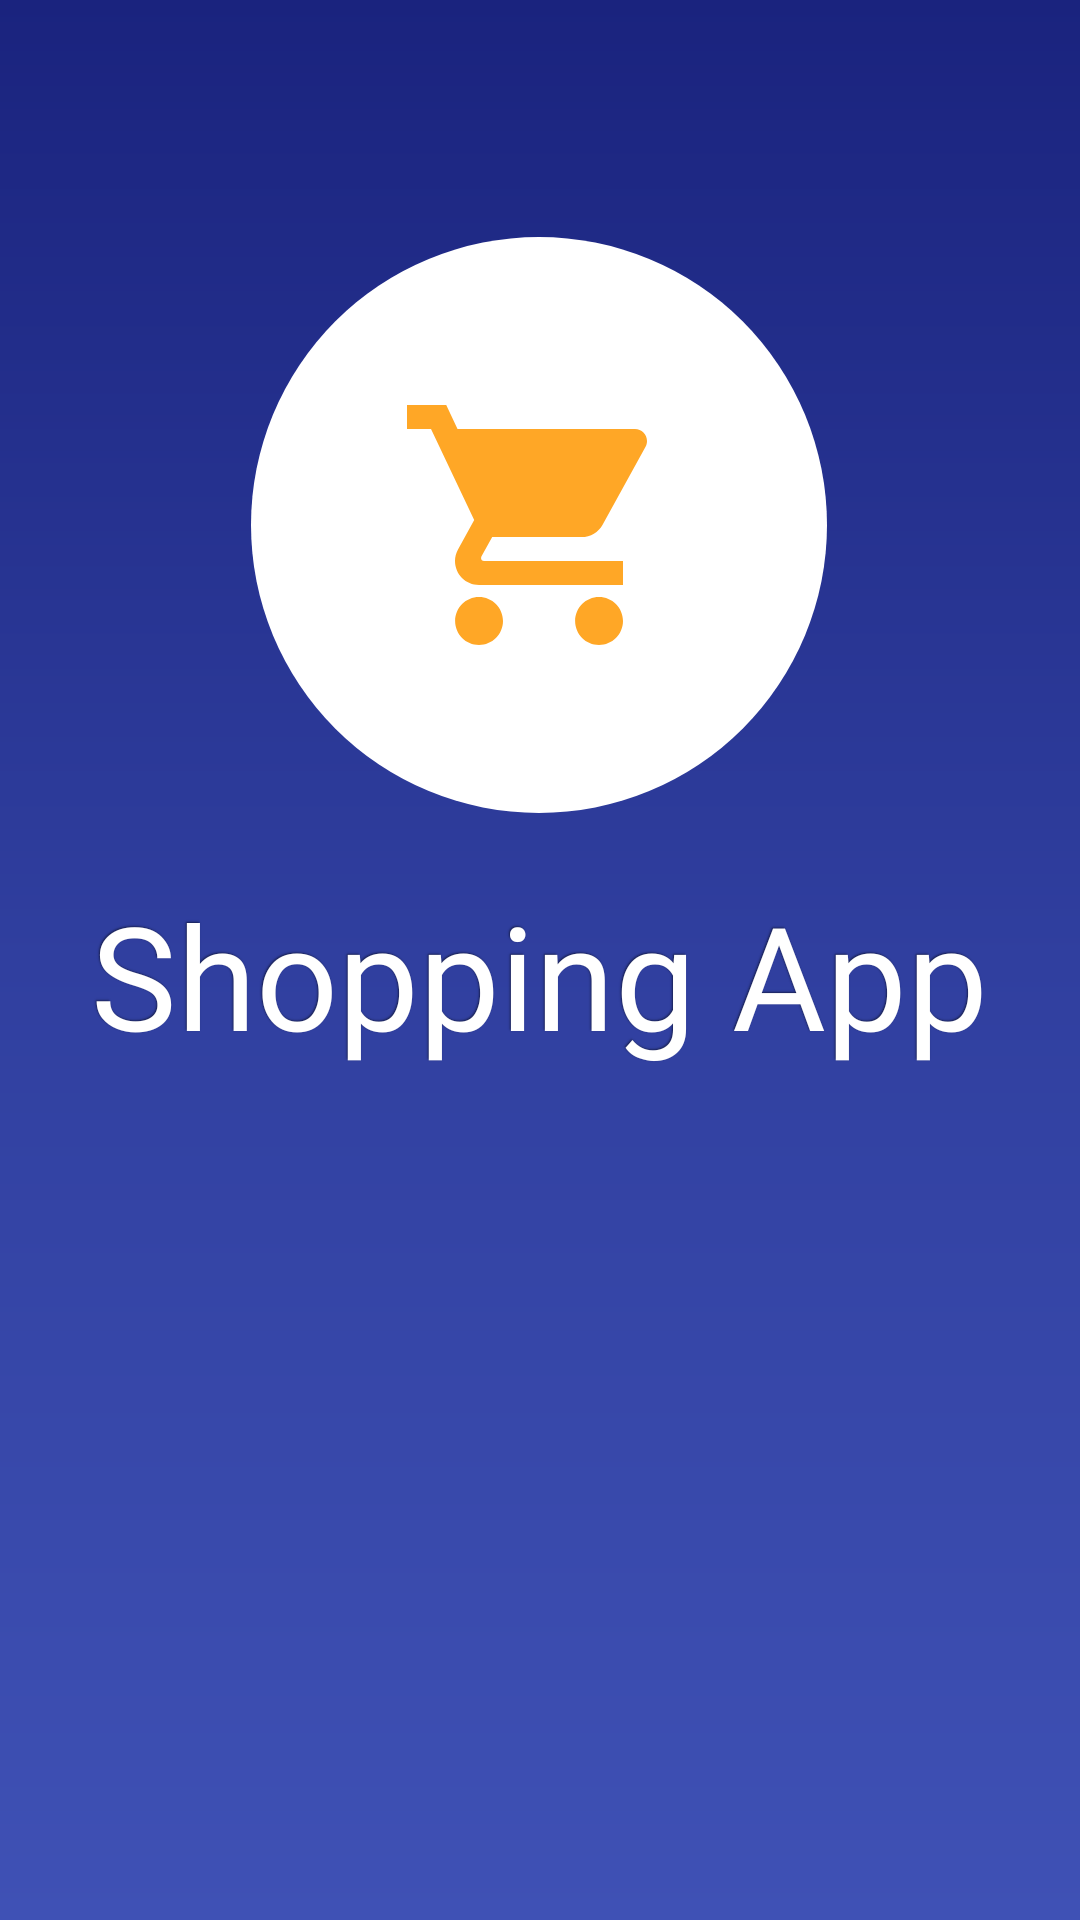

Screen size 1080 × 1920. Icon name, then its center in pixels as (x=x, y=y):
shopping cart: (x=527, y=525)
